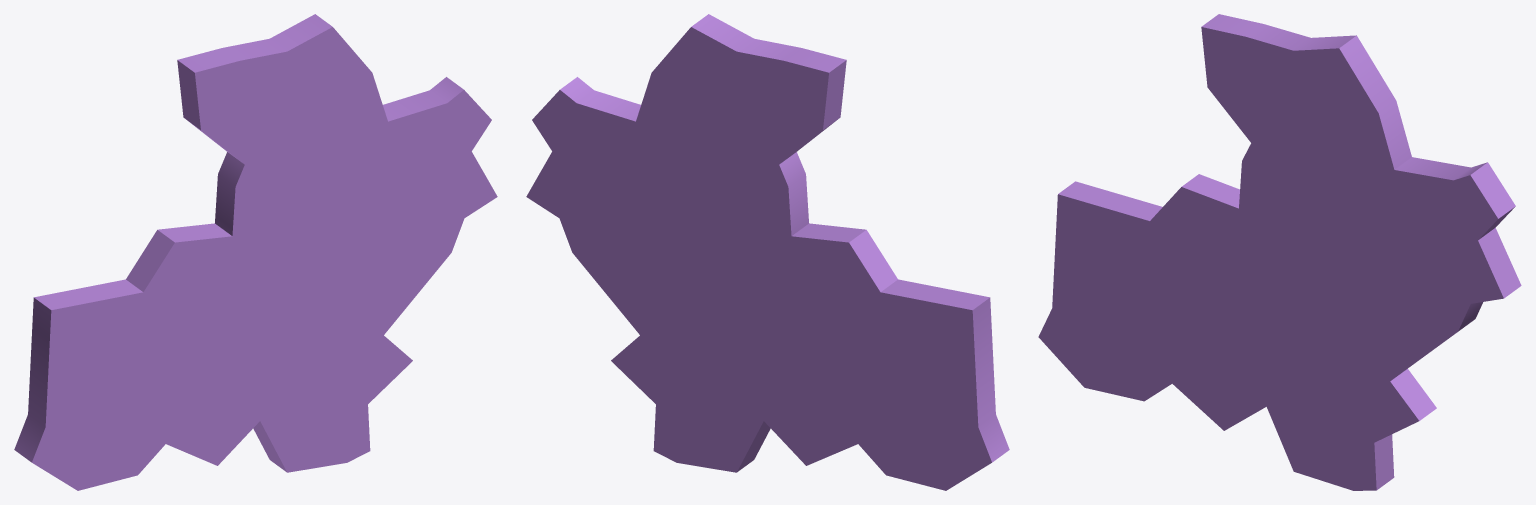
The model's file is nazas.fbx.
3 views of the same model, side by side, from view 1: azimuth 30°, elevation 25°; view 2: azimuth 150°, elevation 25°; view 3: azimuth 330°, elevation 25° (orthographic).
Visible parts, largest first — view 1: nazas; view 2: nazas; view 3: nazas.
Part boxes in pixels (<box>): nazas: <box>14,14,497,490</box>; nazas: <box>526,14,1009,490</box>; nazas: <box>1038,14,1521,490</box>.
Size of the model in its own units: 122 by 110 by 8.
